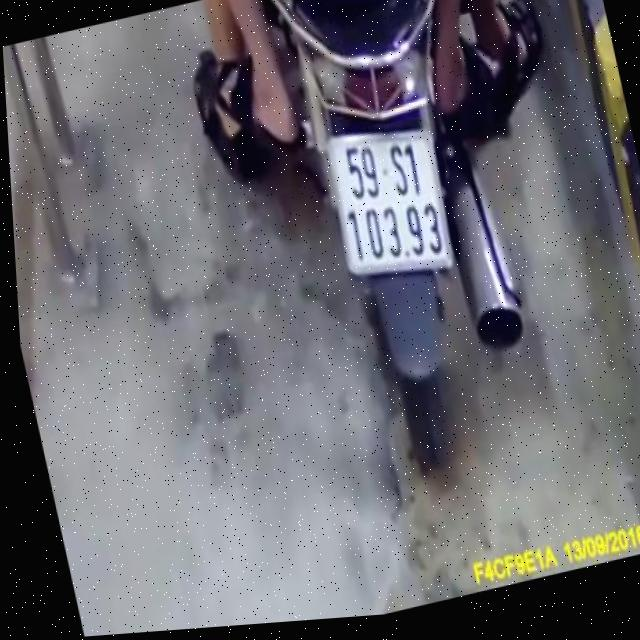motorcycle: (260, 0, 527, 481)
plate: (315, 112, 462, 295)
